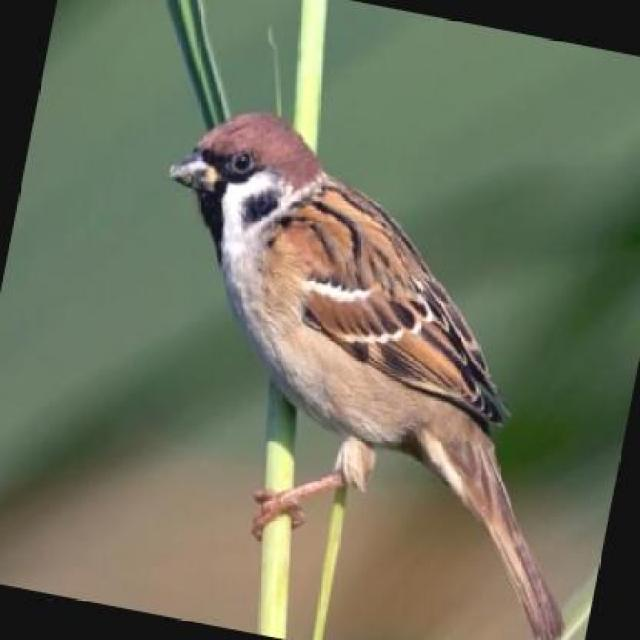Bird: (167, 112, 597, 638)
